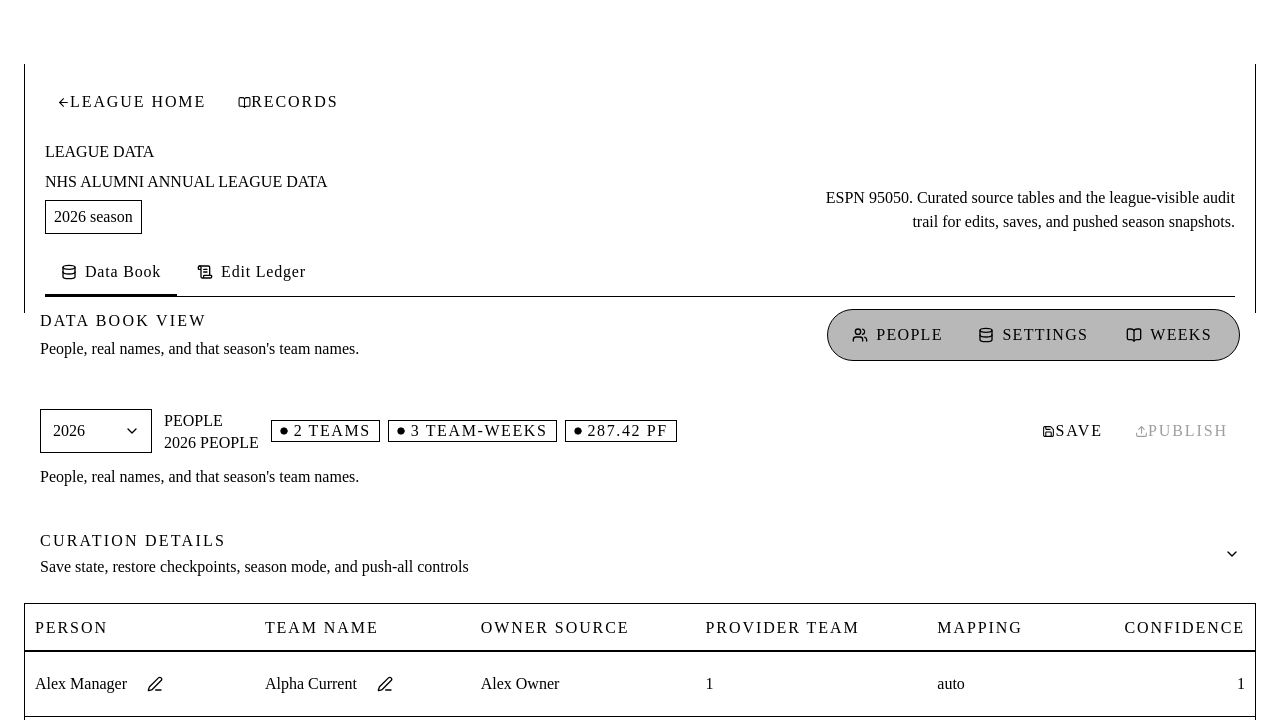
Test case: steward Settings shows the read-only measured coverage panel
The image size is (1280, 720).
Click the radio button labelled "Settings".
click(1033, 334)  # box top-left (978, 326), bottom-right (1088, 343)
(page scrolled)
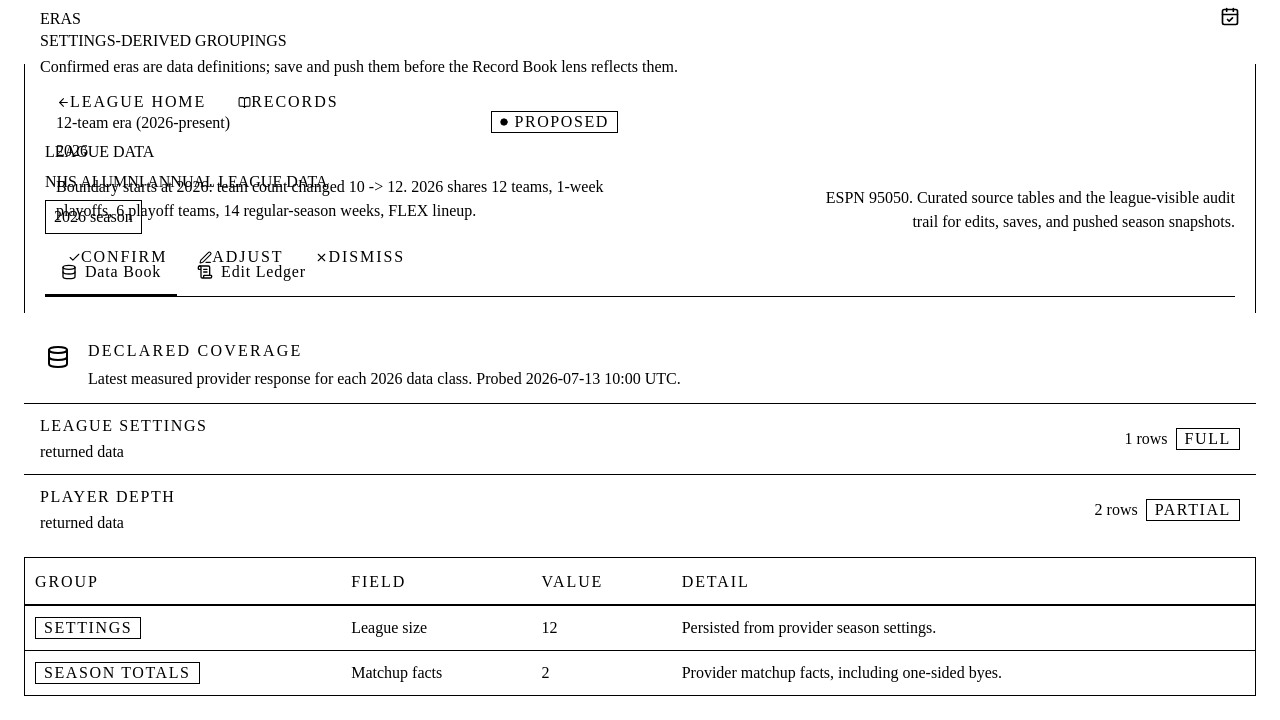
Expected: the text "Declared coverage" is shown, top-left (88, 342), bottom-right (302, 359)
Expected: the text "League settings" is shown, top-left (40, 417), bottom-right (208, 434)
Expected: the text "Player depth" is shown, top-left (40, 488), bottom-right (176, 505)
